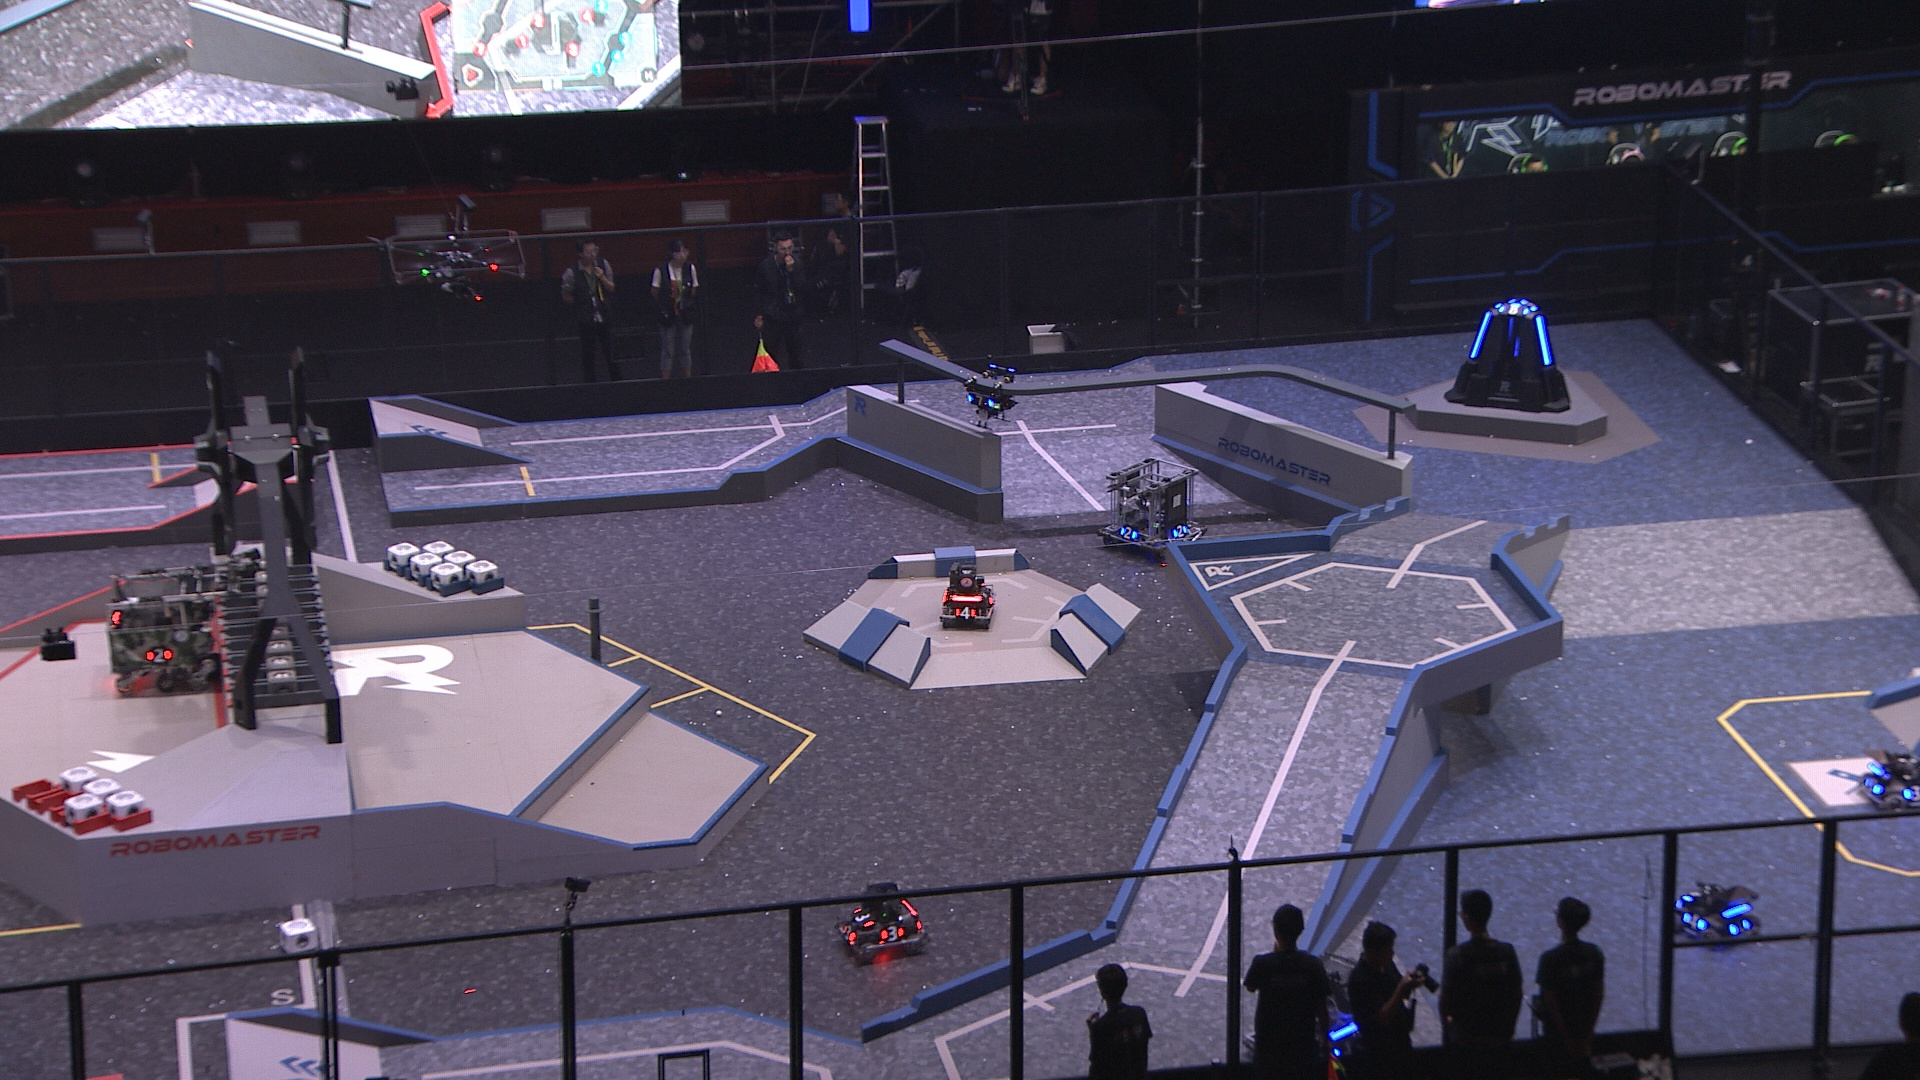armor: (1468, 309, 1494, 357), (1532, 313, 1552, 368), (1680, 910, 1706, 934), (880, 922, 905, 945), (964, 392, 996, 410), (852, 906, 874, 928), (1863, 775, 1887, 796), (1499, 299, 1528, 316), (953, 603, 978, 621), (1899, 782, 1920, 803), (1727, 915, 1750, 935), (841, 920, 858, 945), (1120, 524, 1139, 543), (1683, 887, 1705, 905), (145, 647, 171, 662), (1519, 295, 1538, 311), (1172, 522, 1188, 541), (982, 589, 996, 611)
base: (1439, 291, 1572, 417)
car: (98, 564, 229, 700), (1240, 948, 1378, 1073), (1093, 456, 1209, 556), (835, 878, 930, 963), (1667, 873, 1760, 955), (938, 560, 998, 633), (1858, 749, 1920, 812)
watcher: (960, 353, 1021, 433)
